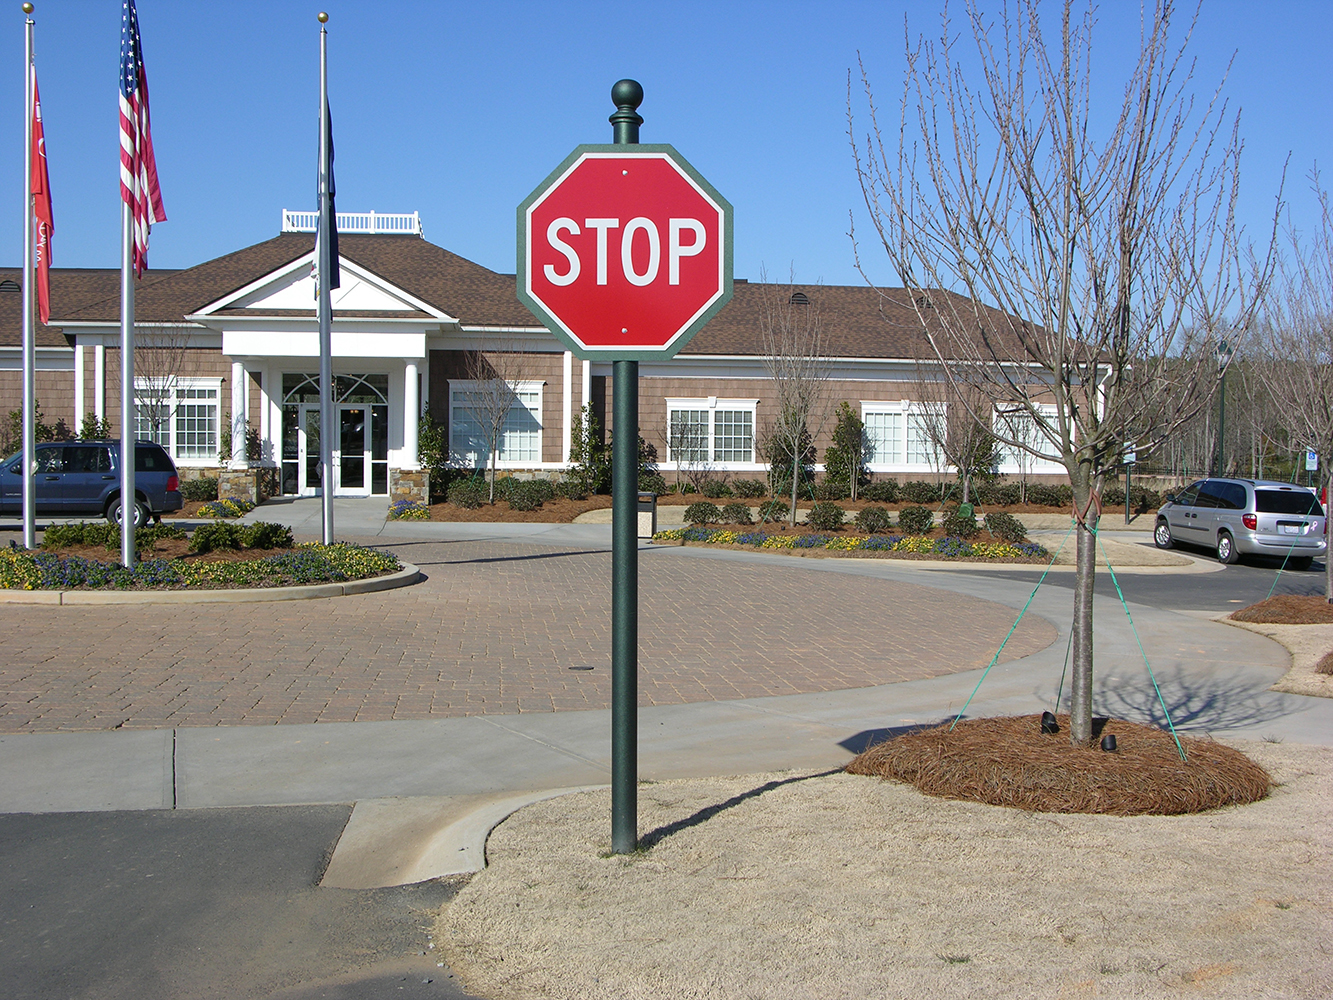stop: (512, 141, 736, 364)
